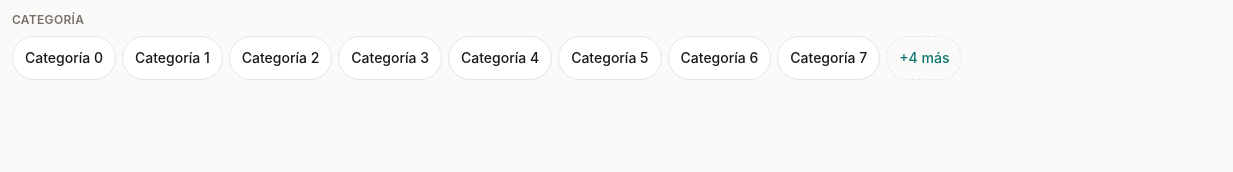
CategoryPicker with a long category list › expands to show every category on demand
Click the button "+4 más". click: (924, 58)
box: [886, 36, 962, 80]
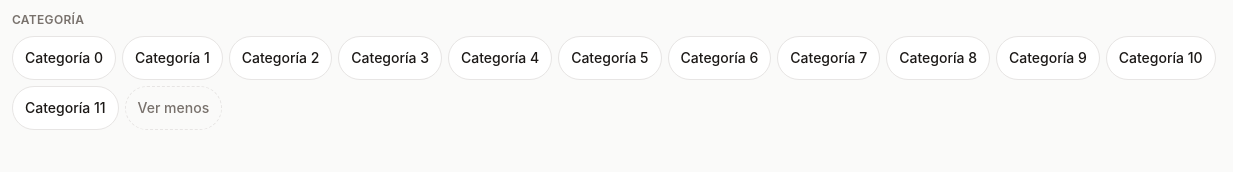
Expected: the radio button "Categoría 11" is shown, [12, 86, 119, 130]
